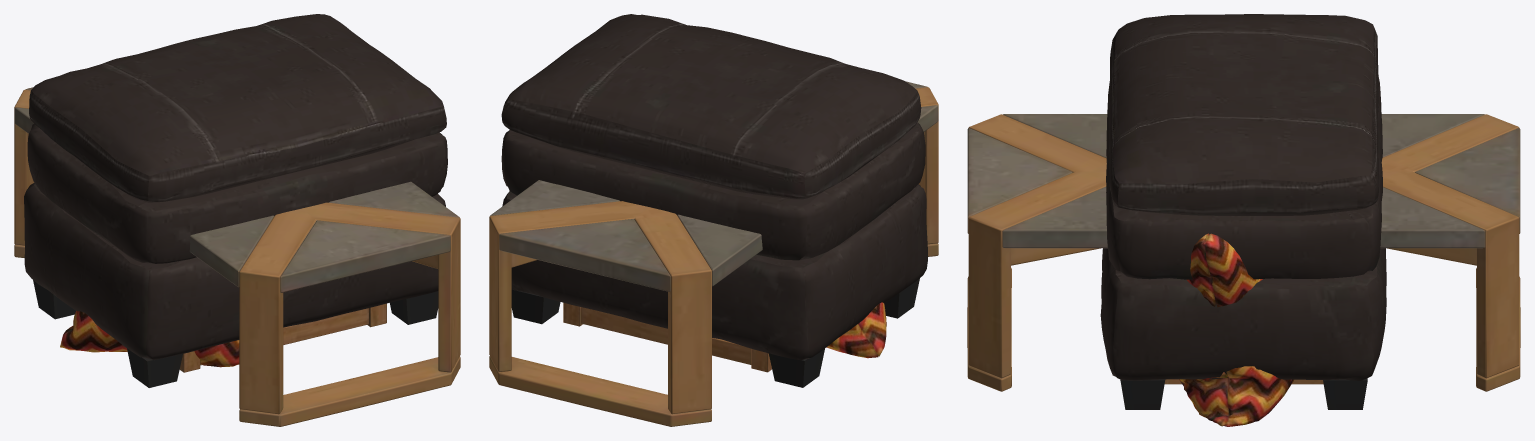
Rendered from lounge-props.glb.
The picture shows the model from 3 angles, left to right: view 1: azimuth 30°, elevation 25°; view 2: azimuth 150°, elevation 25°; view 3: azimuth 270°, elevation 25°; orthographic projection. The views are drawn at different scales.
Visible parts, largest first — view 1: Ottoman_01, modern_coffee_table_01, throw_pillows_01_pillow01, side_table_01; view 2: Ottoman_01, modern_coffee_table_01, side_table_01, throw_pillows_01_pillow01; view 3: Ottoman_01, modern_coffee_table_01, throw_pillows_01_pillow02.
Boxes of the visible parts, x1,y1,x2,y2 form: Ottoman_01: (24, 14, 447, 387); modern_coffee_table_01: (14, 87, 460, 426); throw_pillows_01_pillow01: (60, 311, 239, 367); side_table_01: (179, 303, 386, 372); Ottoman_01: (501, 14, 927, 387); modern_coffee_table_01: (489, 81, 938, 426); side_table_01: (563, 302, 771, 372); throw_pillows_01_pillow01: (826, 302, 886, 358); Ottoman_01: (1100, 14, 1386, 409); modern_coffee_table_01: (967, 114, 1520, 391); throw_pillows_01_pillow02: (1179, 233, 1293, 426).
Bounding box in the file's own units: 0.9401 × 0.6266 × 1.2.
5 materials, 5 textured.
